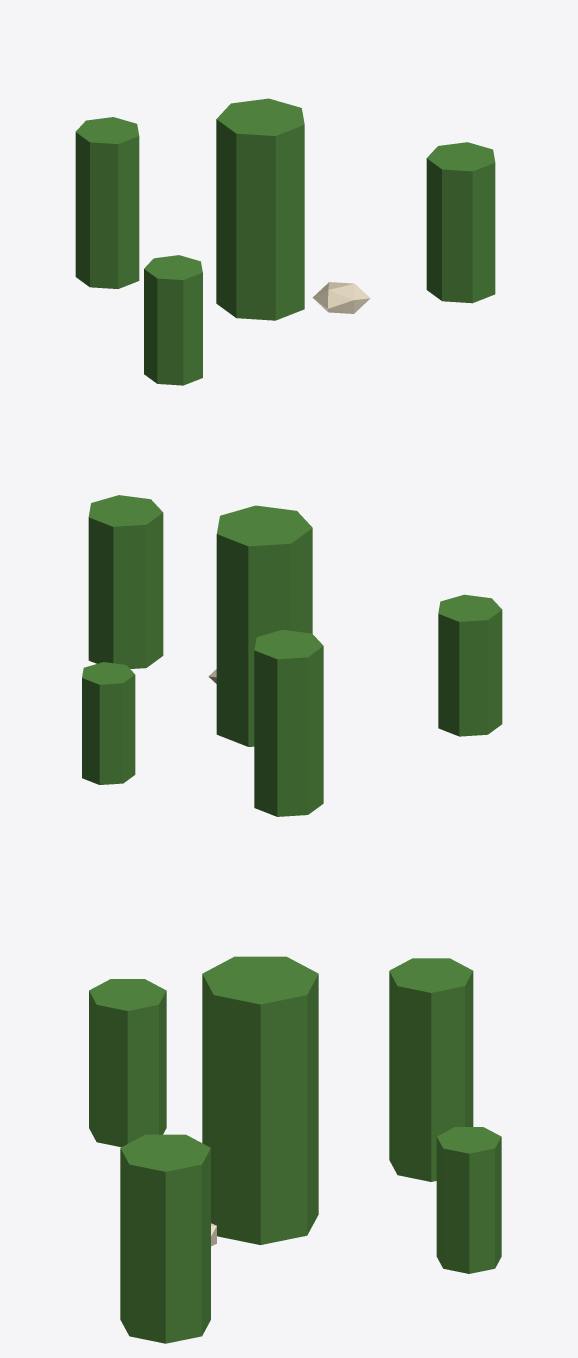
File: M12_MushroomCluster.fbx
The picture shows the model from 3 angles, top to bottom: view 1: azimuth 30°, elevation 25°; view 2: azimuth 150°, elevation 25°; view 3: azimuth 270°, elevation 25°; orthographic projection. The views are drawn at different scales.
Visible parts, largest first — view 1: M12_MushroomCluster; view 2: M12_MushroomCluster; view 3: M12_MushroomCluster.
Part boxes in pixels (x1,y1,x2,y2): M12_MushroomCluster: (75, 98, 495, 385); M12_MushroomCluster: (82, 495, 502, 816); M12_MushroomCluster: (89, 956, 501, 1343).
Bounding box in the file's own units: 3.7 × 2.04 × 2.9.
Materials: 1 (1 with a texture image).
